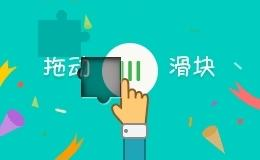target: (61, 37, 101, 77)
